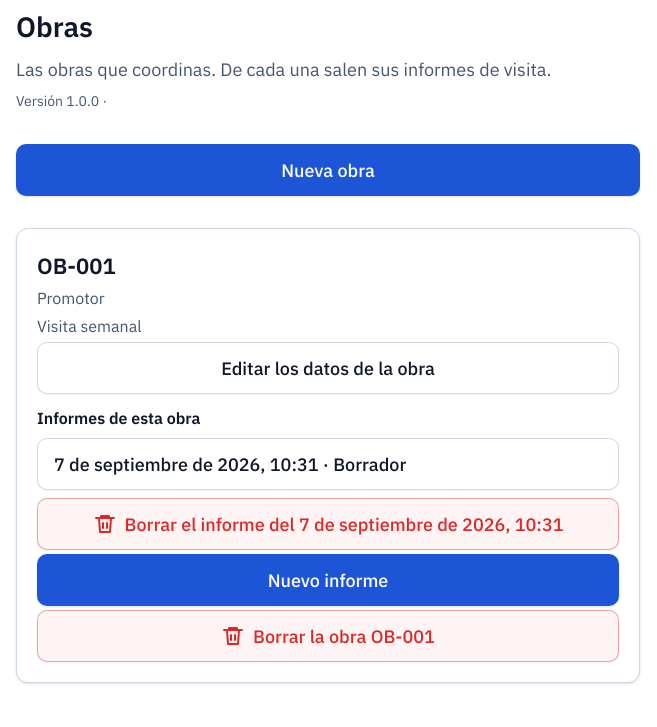
ObrasPage › deja el borrador en paz si se dice que no
Click the button "Borrar el informe". click: click(328, 524)
box: [37,498,619,550]
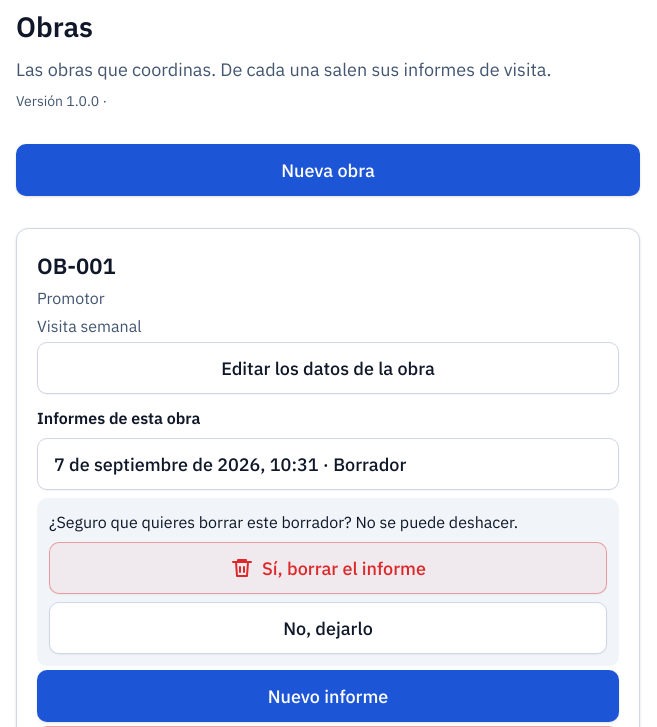
Click the button "No, dejarlo". click: click(328, 628)
box: [49,602,607,654]
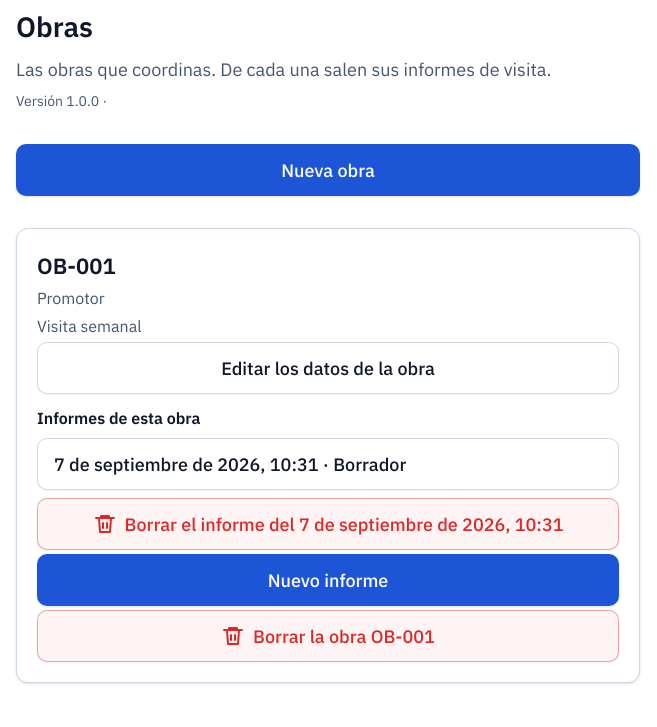
Result: the text "¿Seguro que quieres borrar" is gone
